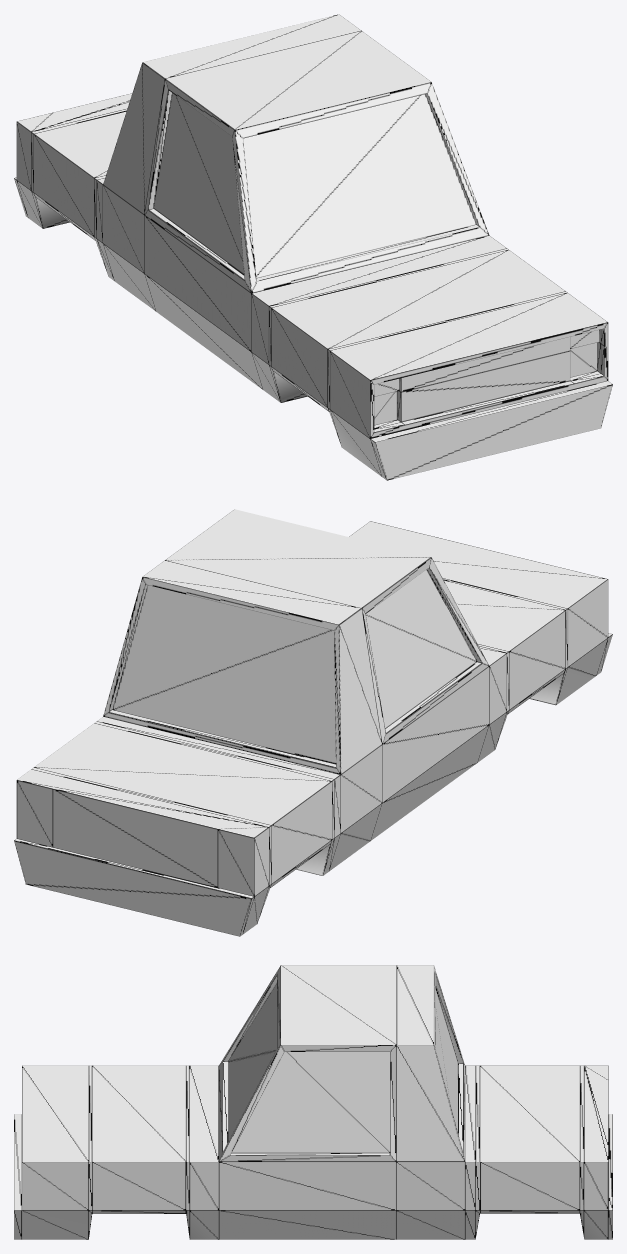
Rendered from LP_Car_5.obj.
3 views of the same model, one above another, from view 1: azimuth 30°, elevation 25°; view 2: azimuth 150°, elevation 25°; view 3: azimuth 270°, elevation 25° (orthographic). The views are drawn at different scales.
Parts seen in each view (by area): view 1: Box001; view 2: Box001; view 3: Box001.
Part boxes in pixels (box(x1,y1,x2,y2)): Box001: box(14, 14, 612, 480); Box001: box(14, 509, 612, 936); Box001: box(14, 965, 612, 1239).
Bounding box in the file's own units: 21.03 × 19.5 × 55.29.
